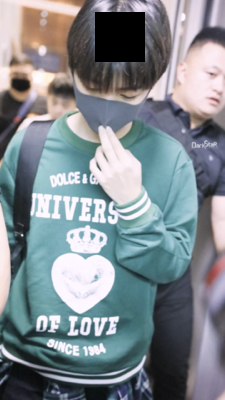with_mask: (73, 76, 148, 137), (10, 71, 33, 92)
without_mask: (187, 60, 225, 117), (48, 95, 77, 122)
